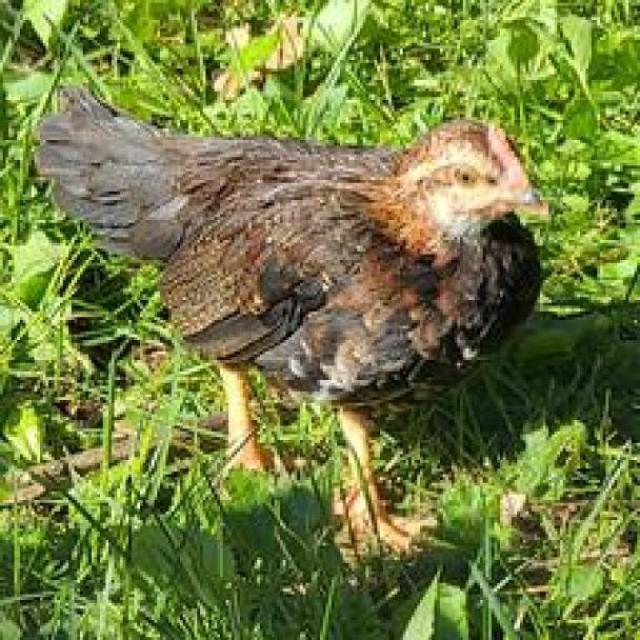Chicken: (38, 50, 562, 546)
